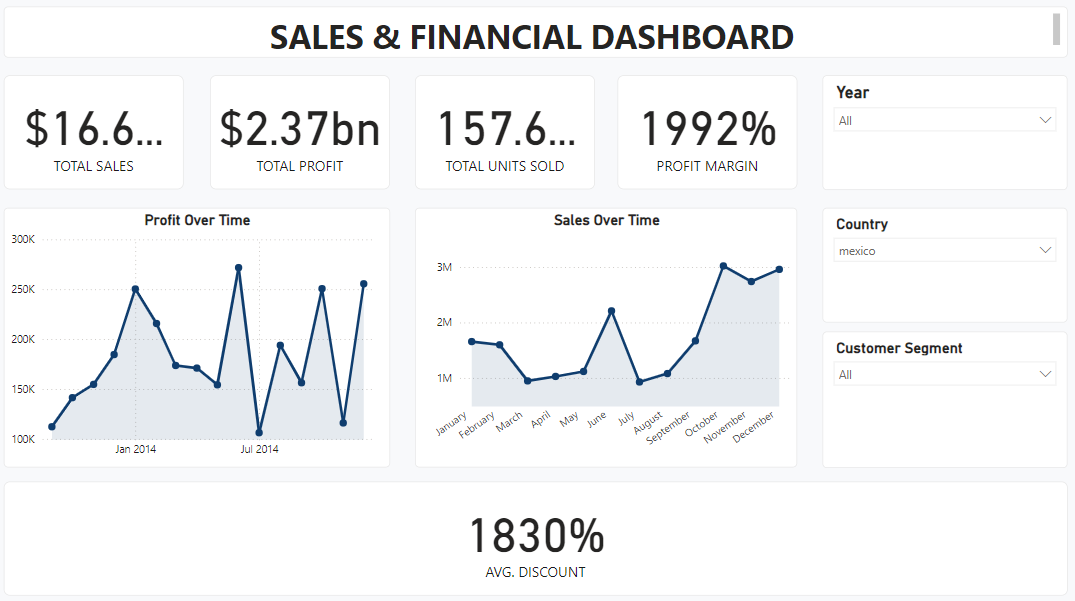

Layout of this report page (visuals, bound fields, positions):
{"tool":"powerbi","page":{"name":"Page 1","canvas":[1280,720],"ordinal":0},"visuals":[{"type":"lineChart","title":"Sales Over Time","fields":{"Category":["Financial_SampleData.Date.Variation.Date Hierarchy.Month"],"Y":["Sum(Financial_SampleData. Sales)"]},"box":[514.3,250,437.1,297.1],"z":0},{"type":"lineChart","title":"Profit Over Time","fields":{"Category":["Financial_SampleData.Date.Variation.Date Hierarchy.Year","Financial_SampleData.Date.Variation.Date Hierarchy.Quarter","Financial_SampleData.Date.Variation.Date Hierarchy.Month","Financial_SampleData.Date.Variation.Date Hierarchy.Day"],"Y":["Sum(Financial_SampleData.Profit)"]},"box":[44.3,250,441.4,297.1],"z":1000},{"type":"slicer","fields":{"Values":["Financial_SampleData.Customer Segment"]},"box":[980,391.4,280,155.7],"z":2000},{"type":"card","fields":{"Values":["Sum(Financial_SampleData.total_profit)"]},"box":[280,98.6,205.7,130],"z":3000},{"type":"card","fields":{"Values":["Sum(Financial_SampleData.total_units_sold)"]},"box":[514.3,98.6,205.7,130],"z":4000},{"type":"card","fields":{"Values":["Sum(Financial_SampleData.Profit Margin %)"]},"box":[745.7,98.6,205.7,130],"z":5000},{"type":"actionButton","box":[0,0,100,40],"z":6000},{"type":"slicer","fields":{"Values":["Financial_SampleData.Country"]},"box":[980,250,280,131.4],"z":7000},{"type":"slicer","fields":{"Values":["Financial_SampleData.Year"]},"box":[980,98.6,280,131.4],"z":8000},{"type":"card","fields":{"Values":["Sum(Financial_SampleData.AVG Discount %)"]},"box":[44.3,562.9,1215.7,130],"z":9000},{"type":"card","fields":{"Values":["Sum(Financial_SampleData.total_sales)"]},"box":[44.3,98.6,205.7,130],"z":10000},{"type":"textbox","box":[44.3,20,1215.7,58.6],"z":11000}]}

Visuals, with their boxes in screenshot pixels (x1, y1, x2, y2), scaled from the page's 1280x720 canvas onto the 1075x601 screenshot:
"Sales Over Time" lineChart: 432 209 799 457
"Profit Over Time" lineChart: 37 209 408 457
slicer - Financial_SampleData.Customer Segment: 823 327 1058 457
card - Sum(Financial_SampleData.total_profit): 235 82 408 191
card - Sum(Financial_SampleData.total_units_sold): 432 82 605 191
card - Sum(Financial_SampleData.Profit Margin %): 626 82 799 191
actionButton: 0 0 84 33
slicer - Financial_SampleData.Country: 823 209 1058 318
slicer - Financial_SampleData.Year: 823 82 1058 192
card - Sum(Financial_SampleData.AVG Discount %): 37 470 1058 578
card - Sum(Financial_SampleData.total_sales): 37 82 210 191
textbox: 37 17 1058 66
